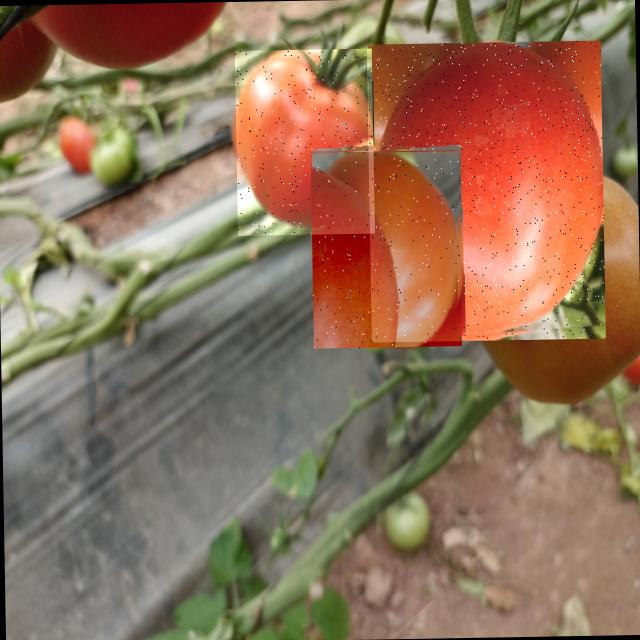Ripe Tomato: (367, 40, 606, 342), (310, 148, 462, 348), (234, 48, 374, 235)
